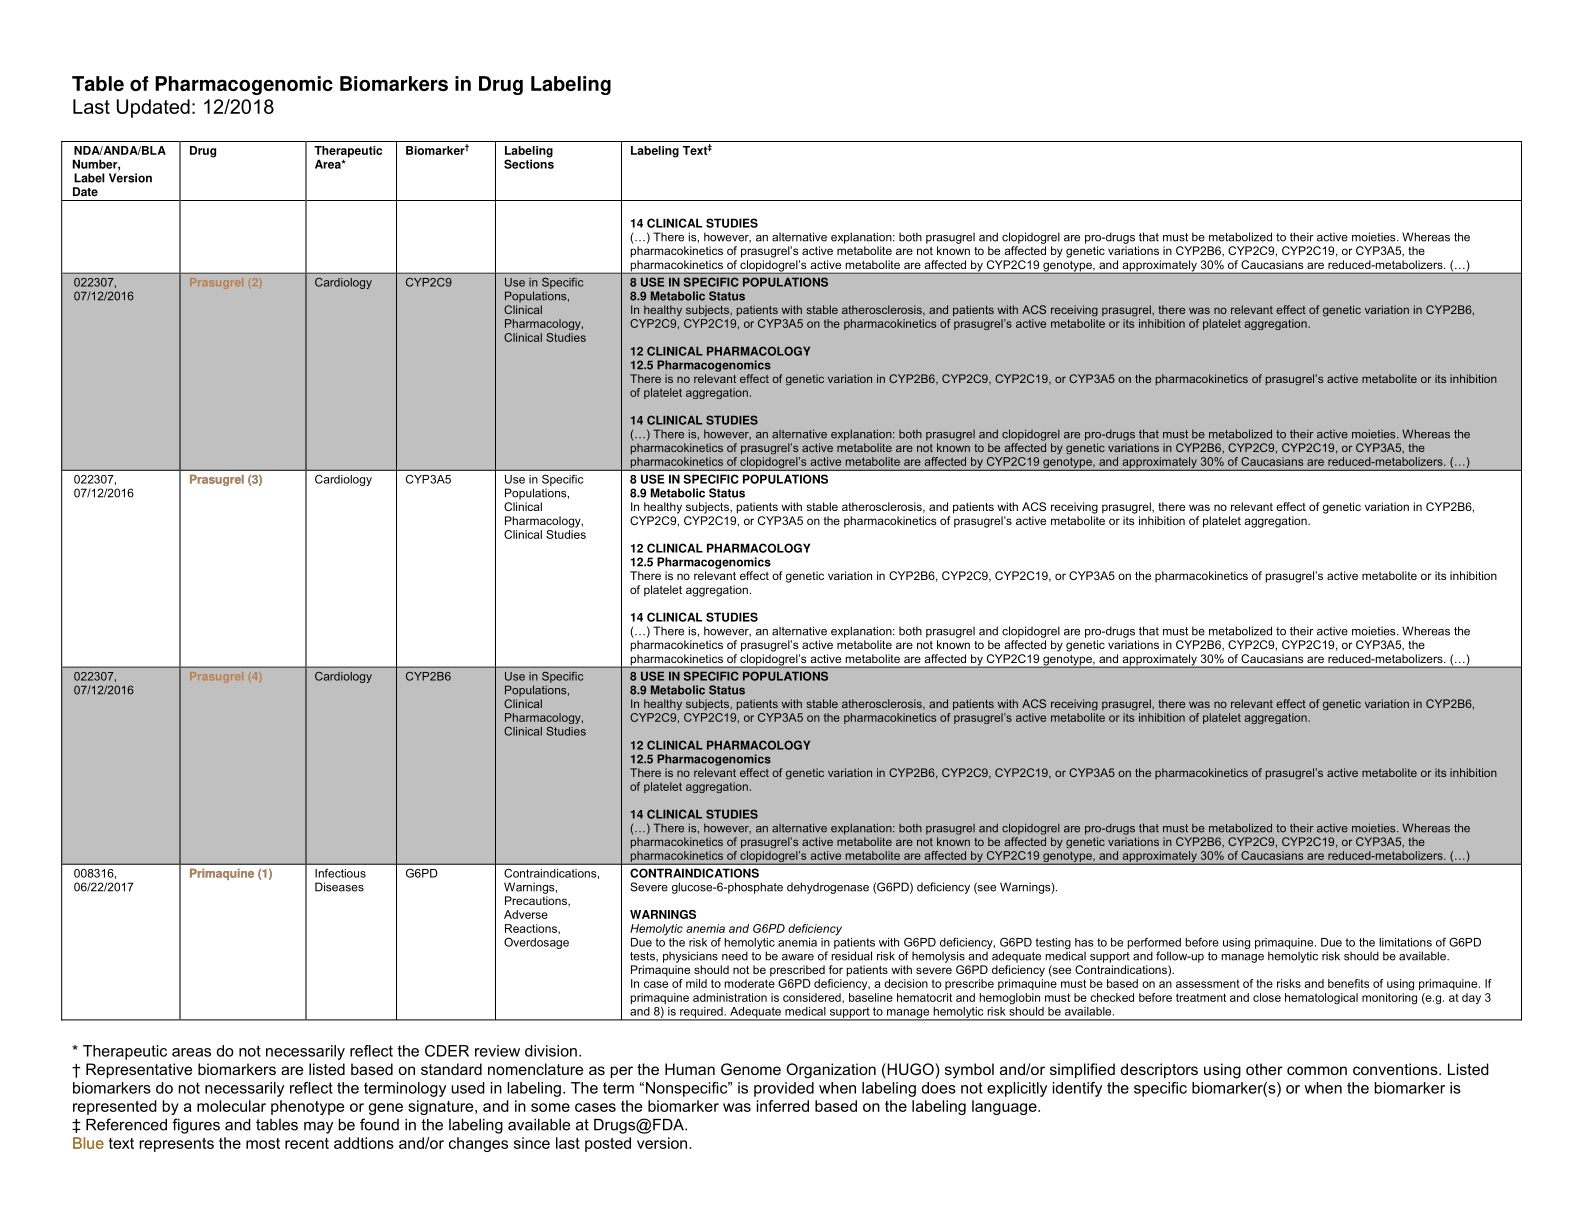full_lined: (59, 139, 1524, 1021)
